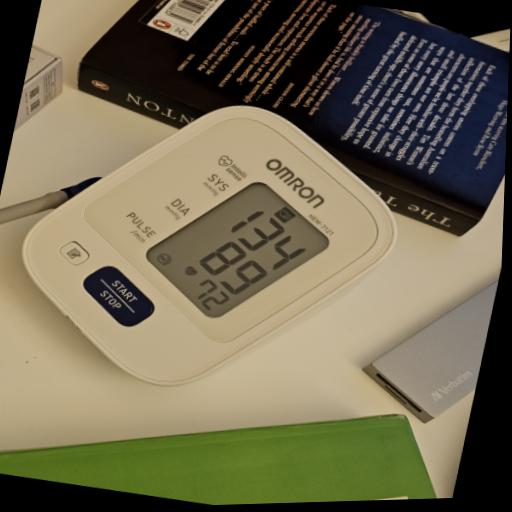lcd display: (131, 162, 343, 341)
